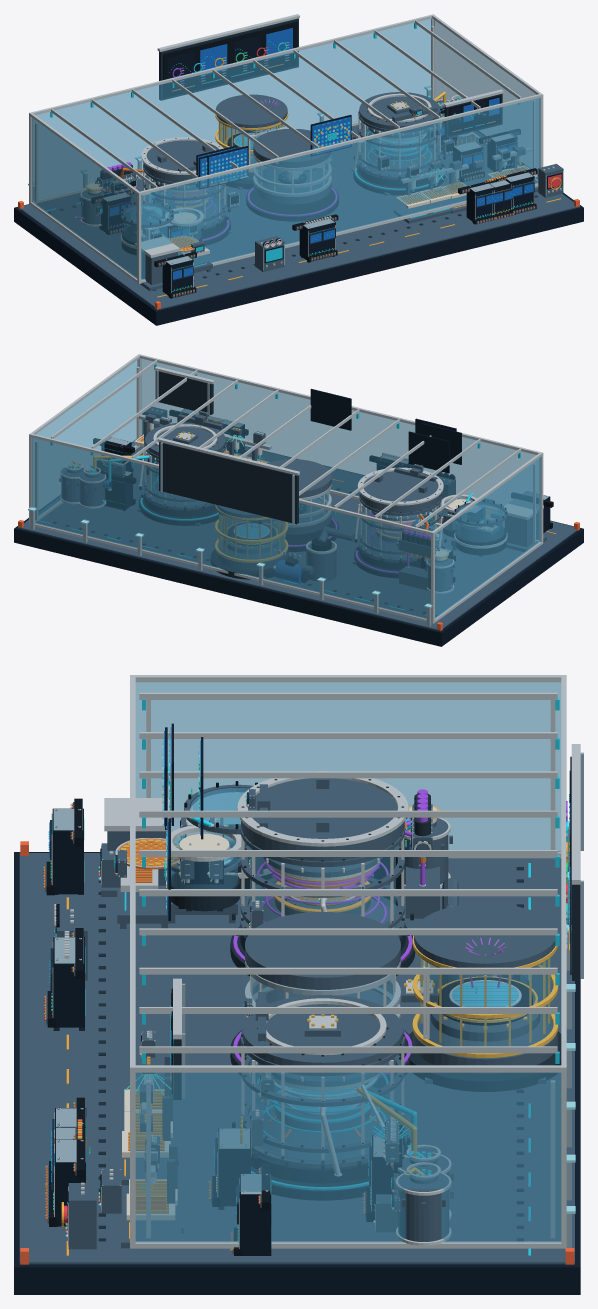
The model's file is Level78_Complete_ArtKit_Showcase.fbx.
The picture shows the model from 3 angles, top to bottom: view 1: azimuth 30°, elevation 25°; view 2: azimuth 150°, elevation 25°; view 3: azimuth 270°, elevation 25°; orthographic projection. The views are drawn at different scales.
Visible parts, largest first — view 1: Level78_Complete_ArtKit_Showcase; view 2: Level78_Complete_ArtKit_Showcase; view 3: Level78_Complete_ArtKit_Showcase.
Part boxes in pixels (x1=…): Level78_Complete_ArtKit_Showcase: x1=14, y1=14, x2=583, y2=325; Level78_Complete_ArtKit_Showcase: x1=14, y1=354, x2=583, y2=646; Level78_Complete_ArtKit_Showcase: x1=14, y1=675, x2=583, y2=1294.
Size of the model in its own units: 2115 by 667 by 1227.
